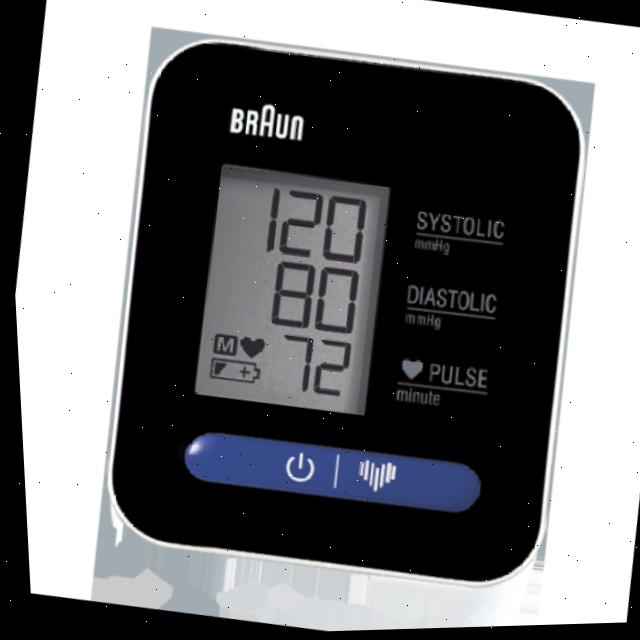dia: (257, 259, 363, 337)
pul: (264, 330, 353, 407)
ssd: (191, 168, 384, 415)
sys: (255, 182, 371, 270)
